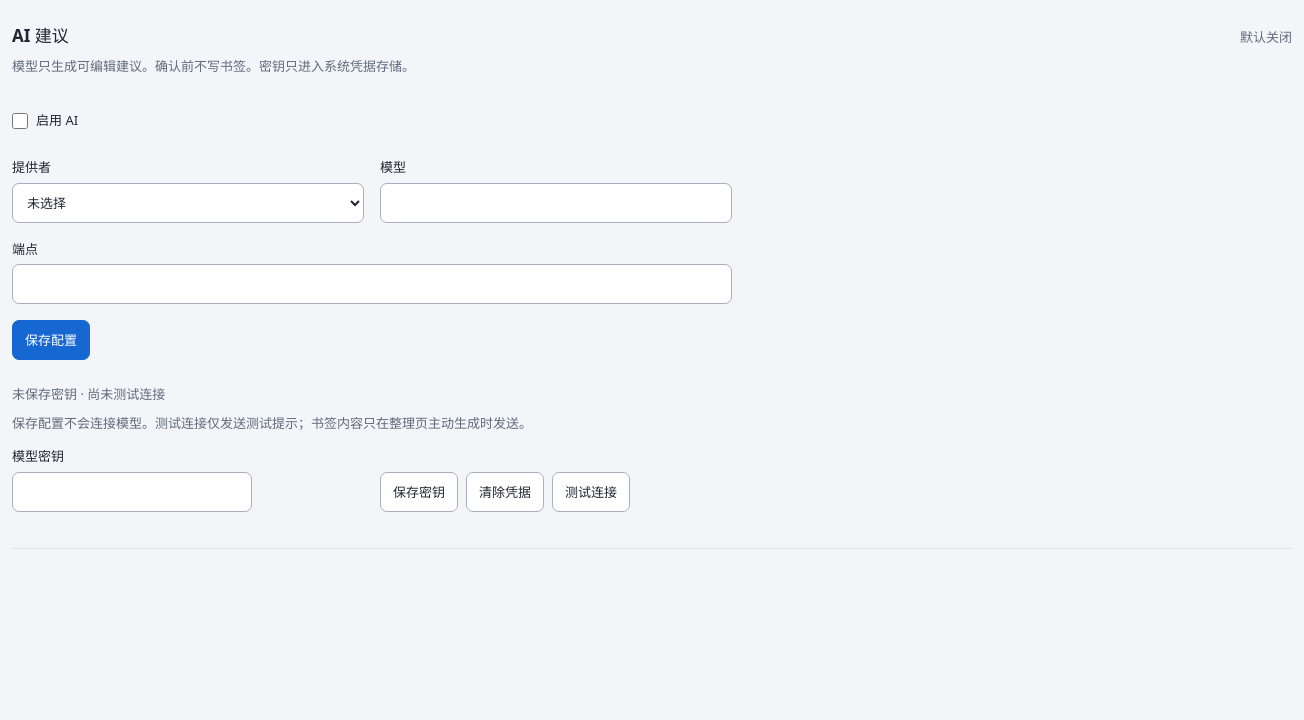
Test case: saves the provider and model, tests the connection, and clears the credential
Check: the text "默认关闭" is shown, box [1240,27,1292,48]
Click the checkbox labelled "启用 AI".
click(20, 121)  # box [12,113,28,129]
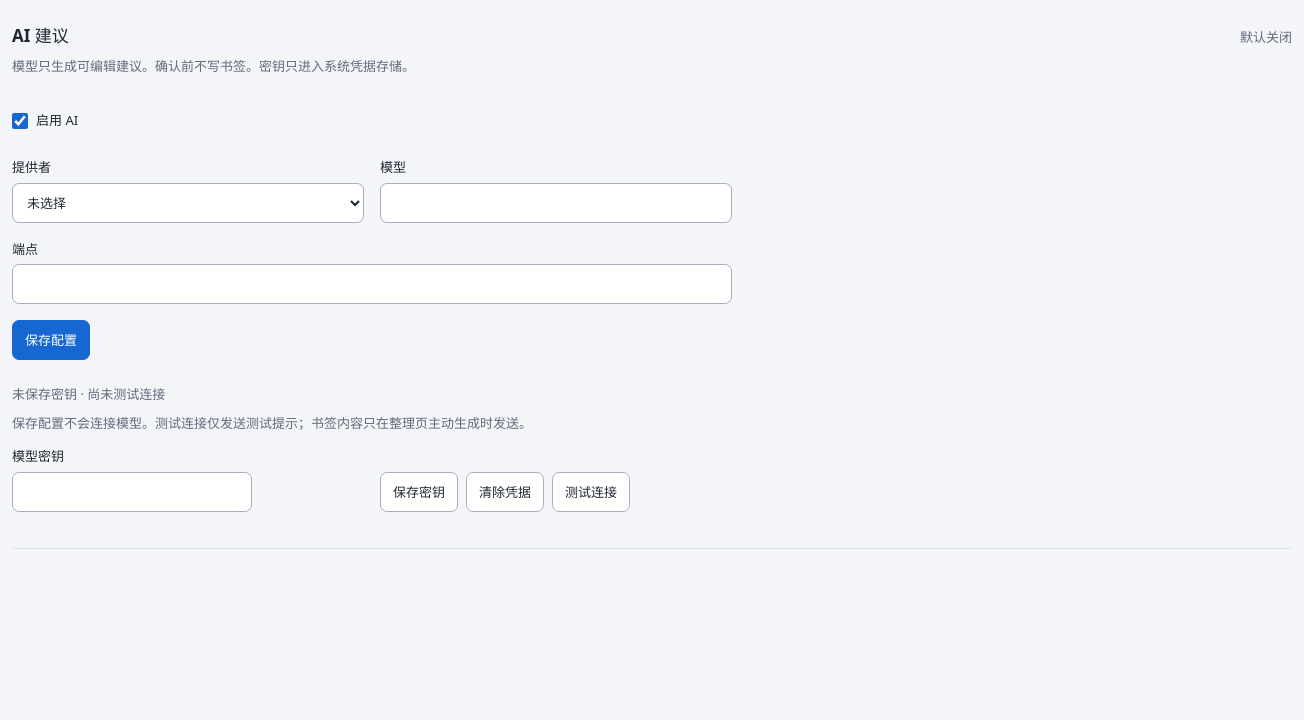
Select "Ollama" in the dropdown labelled "提供者" at (188, 203), box [12,183,364,223]
Type "http://127.0.0.1:11434" into the field labelled "端点".
click(372, 284); type("http://127.0.0.1:11434")  # box [12,264,732,304]
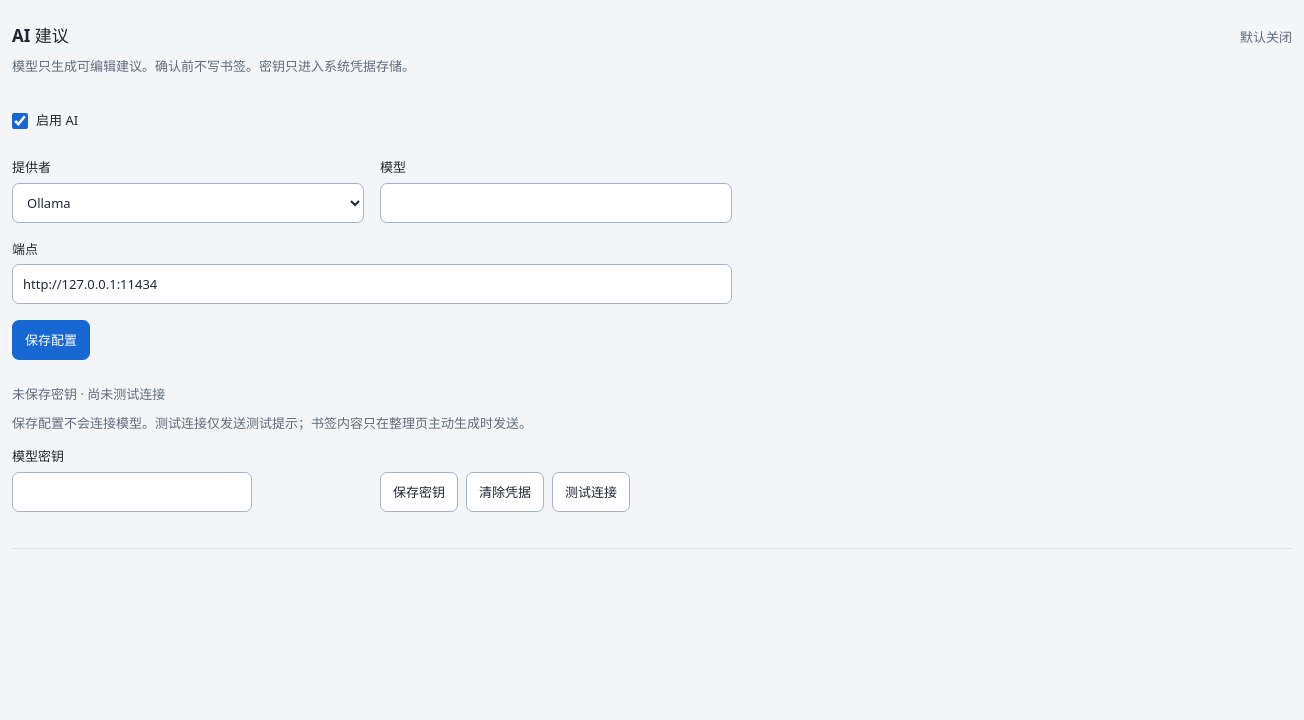
Type "qwen2.5:7b" into the field labelled "模型".
click(556, 203); type("qwen2.5:7b")  # box [380,183,732,223]
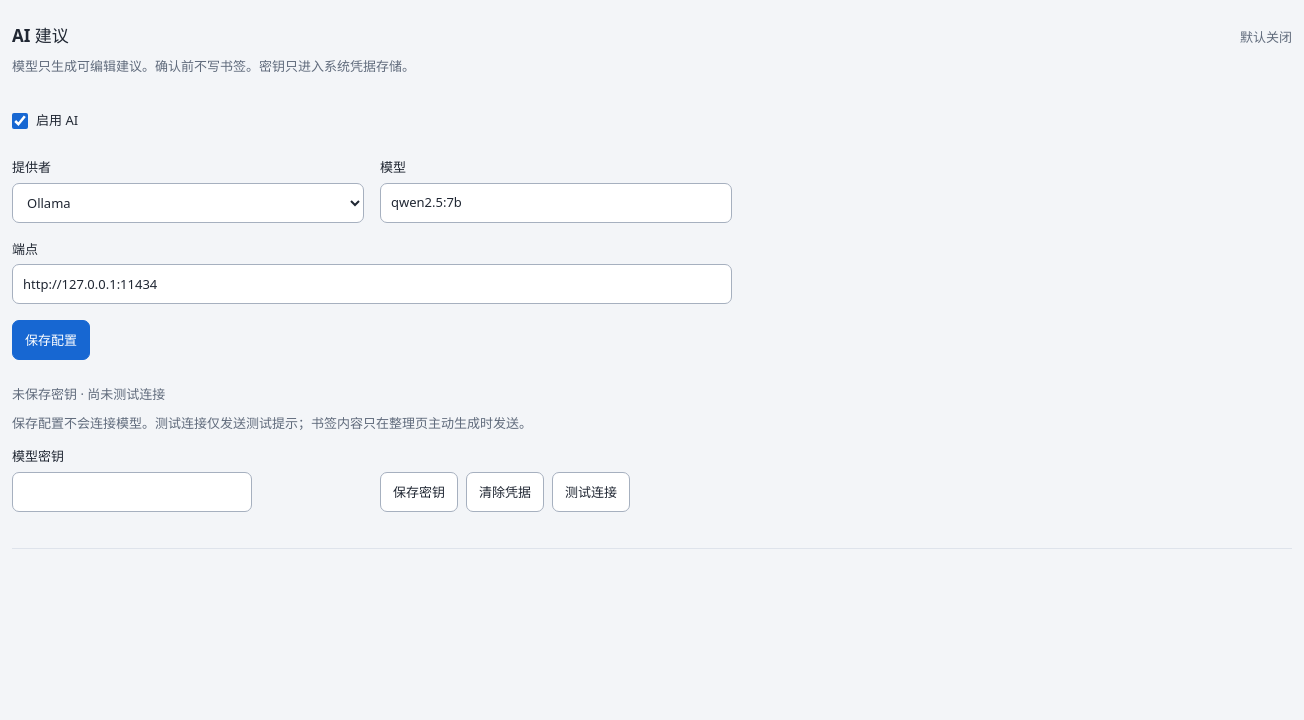
Click the button "保存配置".
click(51, 340)  # box [12,320,90,360]
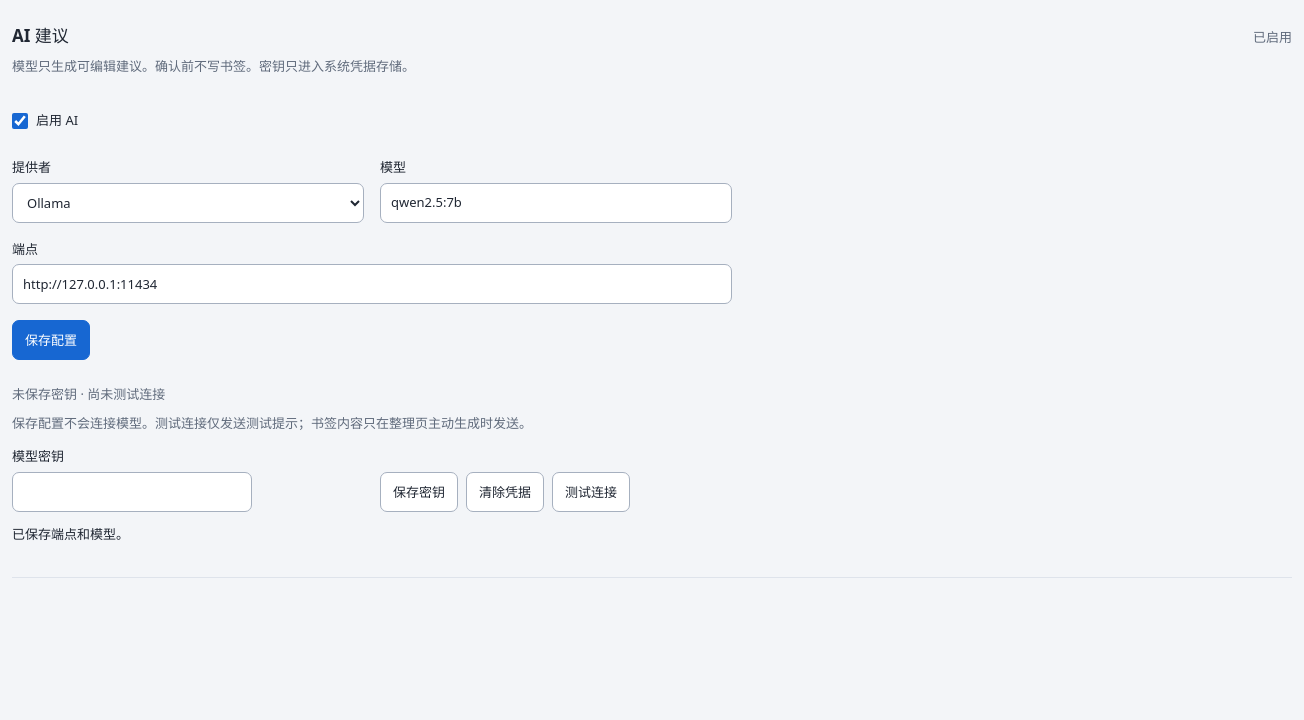
Check: the text "已保存端点和模型。" is shown, box [12,525,129,543]
Click the button "测试连接".
click(591, 492)  # box [552,472,630,512]
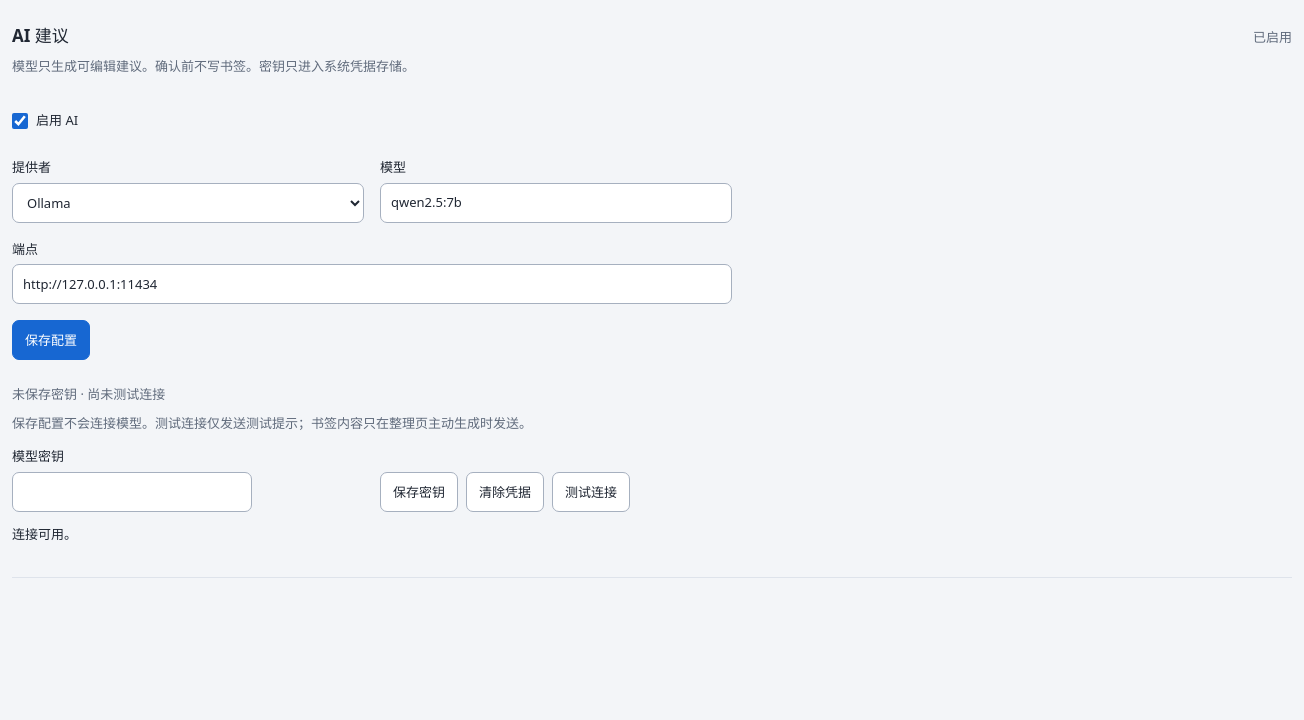
Check: the text "连接可用。" is shown, box [12,525,77,543]
Click the button "清除凭据".
click(505, 492)  # box [466,472,544,512]
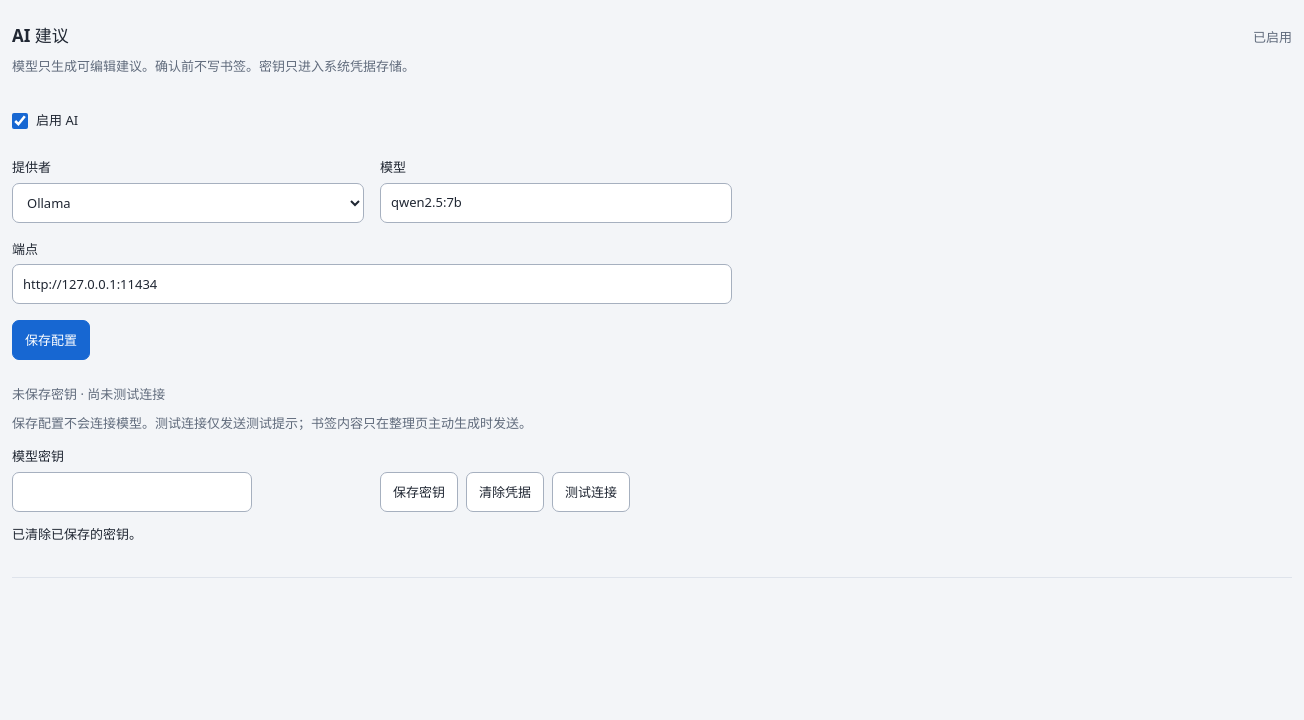
Check: the text "已清除已保存的密钥。" is shown, box [12,525,142,543]
